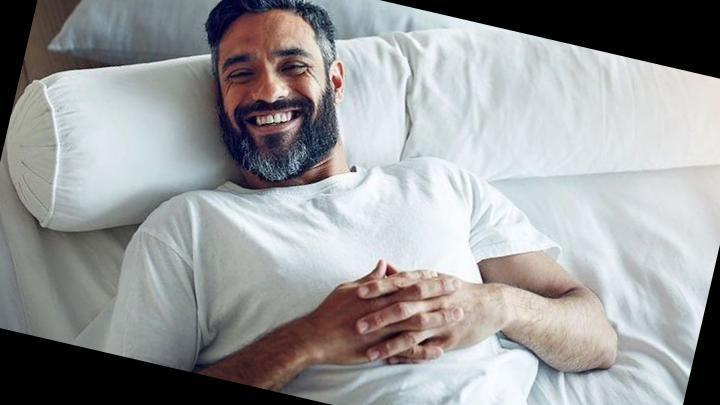Sober: (222, 23, 327, 154)
